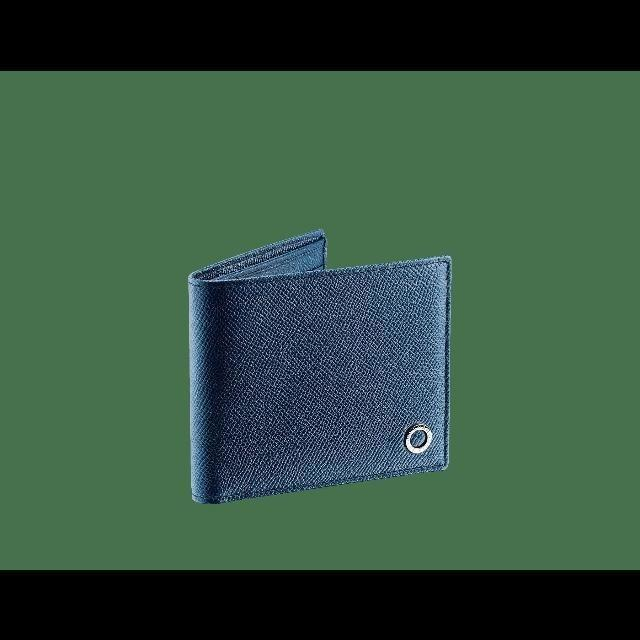Wallet: (183, 225, 451, 510)
